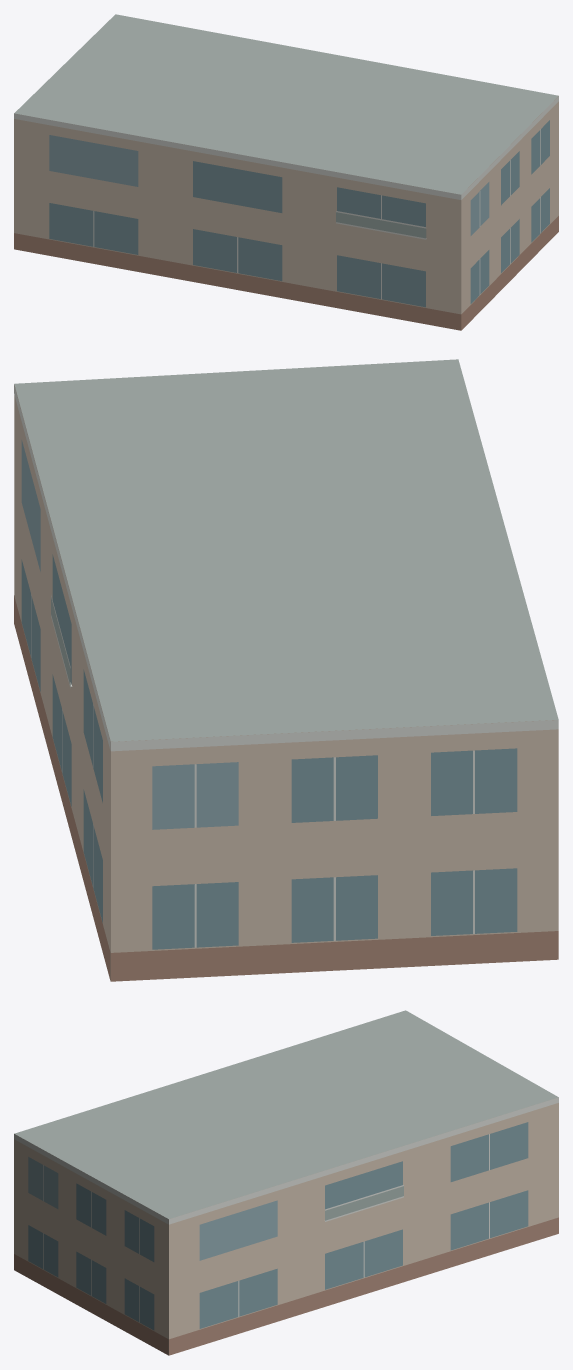
File: survey-upis-32590237.glb
The picture shows the model from 3 angles, top to bottom: view 1: azimuth 30°, elevation 25°; view 2: azimuth 150°, elevation 25°; view 3: azimuth 270°, elevation 25°; orthographic projection. The views are drawn at different scales.
Parts seen in each view (by area): view 1: survey-upis-32590237.tmp; view 2: survey-upis-32590237.tmp; view 3: survey-upis-32590237.tmp.
Part boxes in pixels (x1,y1,x2,y2): survey-upis-32590237.tmp: [14, 14, 558, 330]; survey-upis-32590237.tmp: [14, 359, 558, 981]; survey-upis-32590237.tmp: [14, 1010, 558, 1355].
Bounding box in the file's own units: 20.05 × 6.1 × 22.09.
